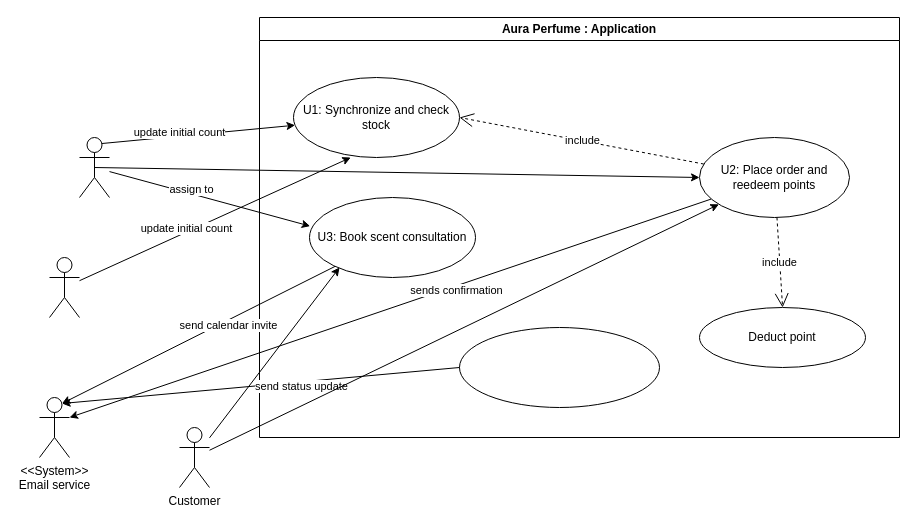
Some shapes in this 917 by 526 pixel diagram are drawn without their labels. The centre of each missing label's shape, as x and y in pixels:
Employees (Sales Associate): the point at 94,167
Store Manager: the point at 64,287
U4: Confirm and prepare order: the point at 559,367
